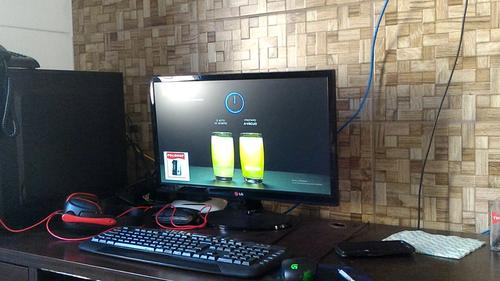Polishop #1: (162, 150, 189, 180)
